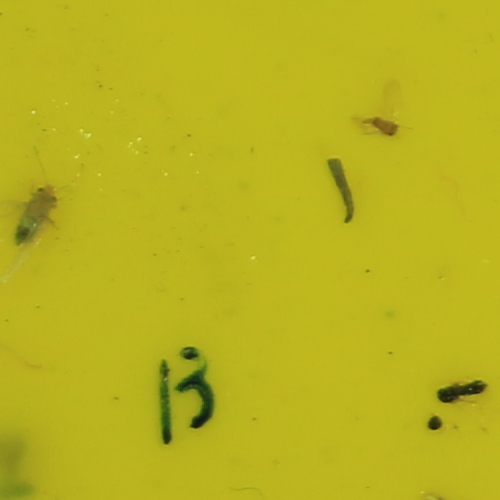psylla: (11, 182, 68, 245), (361, 114, 404, 139)
